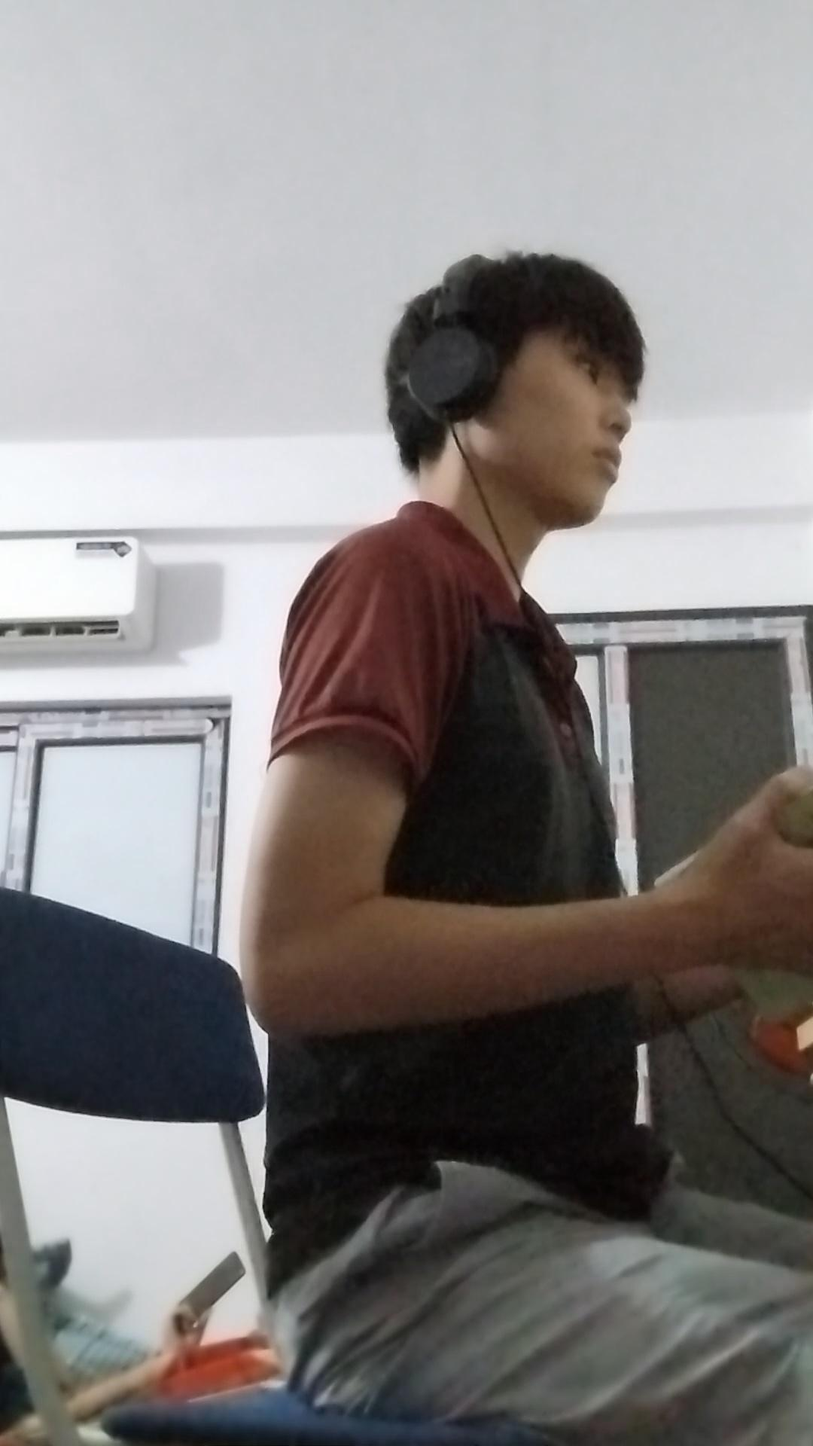GoodPosture: (240, 253, 812, 1445)
